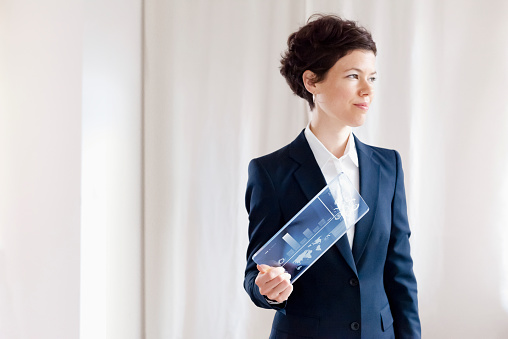em pe: (213, 12, 419, 339)
